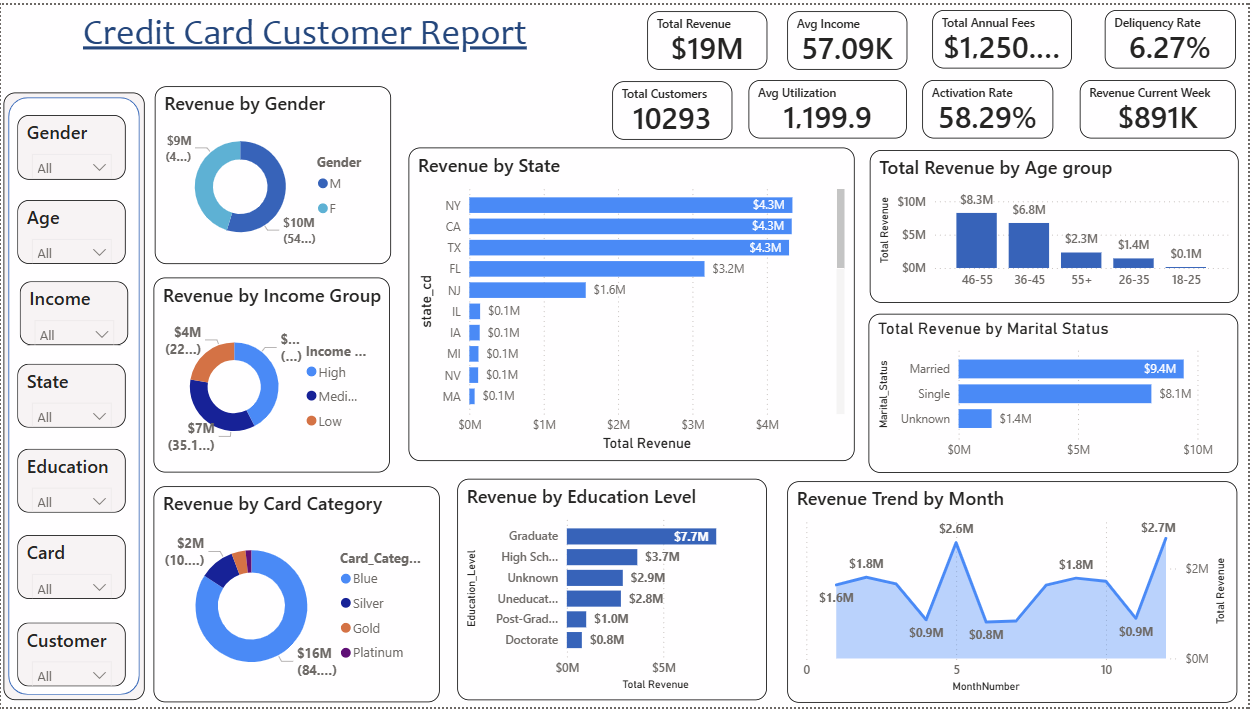

Layout of this report page (visuals, bound fields, positions):
{"tool":"powerbi","page":{"name":"Customer Report","canvas":[1280,720],"ordinal":0},"visuals":[{"type":"shape","box":[2.6,89.7,144.9,623.1],"z":0},{"type":"textbox","box":[10.3,0,529.5,65.4],"z":1000},{"type":"slicer","title":"Gender","fields":{"Values":["customer.Gender"]},"box":[16.7,112.8,111.5,66.7],"z":2000},{"type":"slicer","title":"Age ","fields":{"Values":["customer.Age group "]},"box":[16.7,200,111.5,65.4],"z":3000},{"type":"slicer","title":"Income","fields":{"Values":["customer.Income Group"]},"box":[19.2,283.3,111.5,65.4],"z":4000},{"type":"slicer","title":"State","fields":{"Values":["customer.state_cd"]},"box":[16.7,367.9,111.5,65.4],"z":5000},{"type":"slicer","title":"Education","fields":{"Values":["customer.Education_Level"]},"box":[16.7,455.1,111.5,65.4],"z":6000},{"type":"slicer","title":"Card","fields":{"Values":["CreditCard.Card_Category"]},"box":[16.7,543.6,111.5,65.4],"z":7000},{"type":"slicer","title":"Customer","fields":{"Values":["customer.Customer_Job"]},"box":[16.7,633.3,111.5,65.4],"z":8000},{"type":"card","title":"Total Customers","fields":{"Values":["CreditCard.total customers"]},"box":[459,2.6,123.1,60.3],"z":9000},{"type":"card","title":"Total Revenue","fields":{"Values":["CreditCard.Total Revenue"]},"box":[591,2.6,123.1,60.3],"z":10000},{"type":"card","title":"Avg Income","fields":{"Values":["Calendar.Average Income"]},"box":[724.4,5.1,123.1,60.3],"z":11000},{"type":"card","title":"Avg Credit Limit","fields":{"Values":["Calendar.Average Credit Limit"]},"box":[862.8,3.8,130.8,60.3],"z":12000},{"type":"card","title":"CSS Score Avg","fields":{"Values":["Calendar.CSS Score Average"]},"box":[1146.2,3.8,123.1,60.3],"z":13000},{"type":"card","title":"Avg Utilization","fields":{"Values":["Sum(CreditCard.Avg_Utilization_Ratio)"]},"box":[464.7,77,162.6,59.9],"z":14000},{"type":"card","title":"Avg Credit Score","fields":{"Values":["Calendar.Average Credit Score"]},"box":[1000,3.8,134.6,60.3],"z":15000},{"type":"card","title":"Total Annual Fees","fields":{"Values":["Sum(CreditCard.Annual_Fees)"]},"box":[642,77,145.5,59.9],"z":16000},{"type":"card","title":"Activation Rate","fields":{"Values":["Calendar.Activation Rate"]},"box":[805.8,77,134.5,59.9],"z":17000},{"type":"card","title":"Deliquency Rate","fields":{"Values":["Calendar.Delinquency Rate"]},"box":[956.3,77,134.5,59.9],"z":18000},{"type":"card","title":" Revenue Current Week","fields":{"Values":["Calendar.Revenue current week"]},"box":[1106.7,77,160.2,59.9],"z":19000},{"type":"donutChart","title":" Revenue by Gender","fields":{"Category":["customer.Gender"],"Y":["CreditCard.Total Revenue"]},"box":[157.7,83.3,242.3,182.1],"z":20000},{"type":"clusteredColumnChart","fields":{"Category":["customer.Age group "],"Y":["CreditCard.Total Revenue"]},"box":[891,148.7,378.2,156.4],"z":21000},{"type":"donutChart","title":"Revenue by Income Group","fields":{"Y":["CreditCard.Total Revenue"],"Category":["customer.Income Group"]},"box":[156.4,279.5,242.3,200],"z":22000},{"type":"clusteredBarChart","title":"Revenue by State","fields":{"Y":["CreditCard.Total Revenue"],"Category":["customer.state_cd"]},"box":[418.2,146.7,457.3,321.6],"z":23000},{"type":"clusteredBarChart","title":"Total Revenue by Marital Status","fields":{"Category":["customer.Marital_Status"],"Y":["CreditCard.Total Revenue"]},"box":[889.7,316.7,379.5,162.8],"z":24000},{"type":"donutChart","title":"Revenue by Card Category","fields":{"Category":["CreditCard.Card_Category"],"Y":["CreditCard.Total Revenue"]},"box":[156.4,493.6,293.6,221.8],"z":25000},{"type":"barChart","title":"Revenue by Education Level","fields":{"Y":["CreditCard.Total Revenue"],"Category":["customer.Education_Level"]},"box":[467.9,485.9,317.9,226.9],"z":26000},{"type":"lineChart","title":"Revenue Trend by Month","fields":{"Category":["Calendar.MonthNumber"],"Y2":["CreditCard.Total Revenue"]},"box":[806.4,488.5,461.5,226.9],"z":27000}]}

Visuals, with their boxes in screenshot pixels (x1, y1, x2, y2), scaled from the page's 1280x720 canvas onto the 1252x710 screenshot:
shape: {"left": 3, "top": 88, "right": 144, "bottom": 703}
textbox: {"left": 10, "top": 0, "right": 528, "bottom": 64}
"Gender" slicer: {"left": 16, "top": 111, "right": 125, "bottom": 177}
"Age " slicer: {"left": 16, "top": 197, "right": 125, "bottom": 262}
"Income" slicer: {"left": 19, "top": 279, "right": 128, "bottom": 344}
"State" slicer: {"left": 16, "top": 363, "right": 125, "bottom": 427}
"Education" slicer: {"left": 16, "top": 449, "right": 125, "bottom": 513}
"Card" slicer: {"left": 16, "top": 536, "right": 125, "bottom": 601}
"Customer" slicer: {"left": 16, "top": 625, "right": 125, "bottom": 689}
"Total Customers" card: {"left": 449, "top": 3, "right": 569, "bottom": 62}
"Total Revenue" card: {"left": 578, "top": 3, "right": 698, "bottom": 62}
"Avg Income" card: {"left": 709, "top": 5, "right": 829, "bottom": 64}
"Avg Credit Limit" card: {"left": 844, "top": 4, "right": 972, "bottom": 63}
"CSS Score Avg" card: {"left": 1121, "top": 4, "right": 1242, "bottom": 63}
"Avg Utilization" card: {"left": 455, "top": 76, "right": 614, "bottom": 135}
"Avg Credit Score" card: {"left": 978, "top": 4, "right": 1110, "bottom": 63}
"Total Annual Fees" card: {"left": 628, "top": 76, "right": 770, "bottom": 135}
"Activation Rate" card: {"left": 788, "top": 76, "right": 920, "bottom": 135}
"Deliquency Rate" card: {"left": 935, "top": 76, "right": 1067, "bottom": 135}
" Revenue Current Week" card: {"left": 1082, "top": 76, "right": 1239, "bottom": 135}
" Revenue by Gender" donutChart: {"left": 154, "top": 82, "right": 391, "bottom": 262}
clusteredColumnChart - customer.Age group  x CreditCard.Total Revenue: {"left": 872, "top": 147, "right": 1241, "bottom": 301}
"Revenue by Income Group" donutChart: {"left": 153, "top": 276, "right": 390, "bottom": 473}
"Revenue by State" clusteredBarChart: {"left": 409, "top": 145, "right": 856, "bottom": 462}
"Total Revenue by Marital Status" clusteredBarChart: {"left": 870, "top": 312, "right": 1241, "bottom": 473}
"Revenue by Card Category" donutChart: {"left": 153, "top": 487, "right": 440, "bottom": 705}
"Revenue by Education Level" barChart: {"left": 458, "top": 479, "right": 769, "bottom": 703}
"Revenue Trend by Month" lineChart: {"left": 789, "top": 482, "right": 1240, "bottom": 705}
